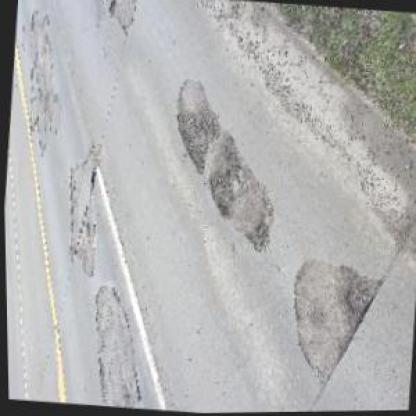pothole: (204, 135, 243, 219), (166, 108, 214, 172), (337, 269, 377, 322)
